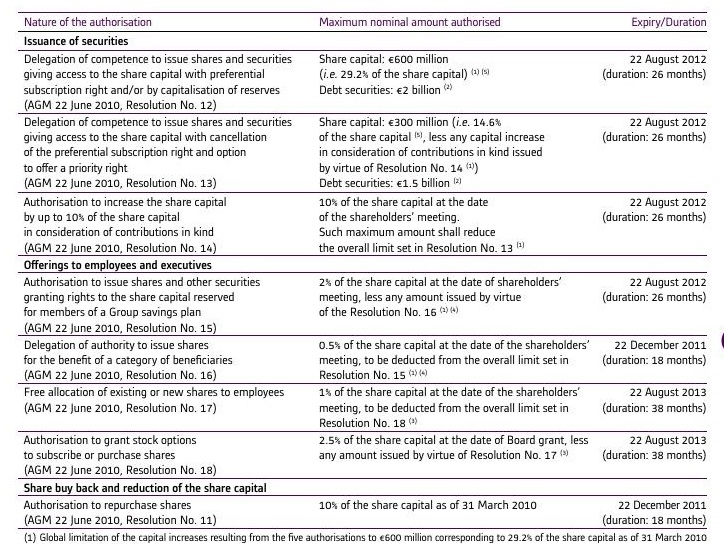table: (0, 0, 724, 544)
